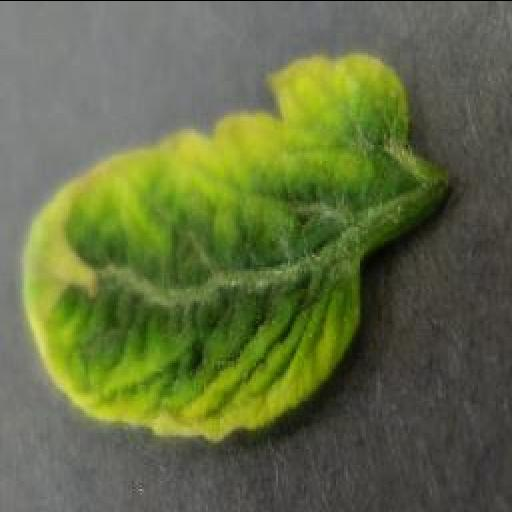disease_tomato: (22, 51, 450, 441)
